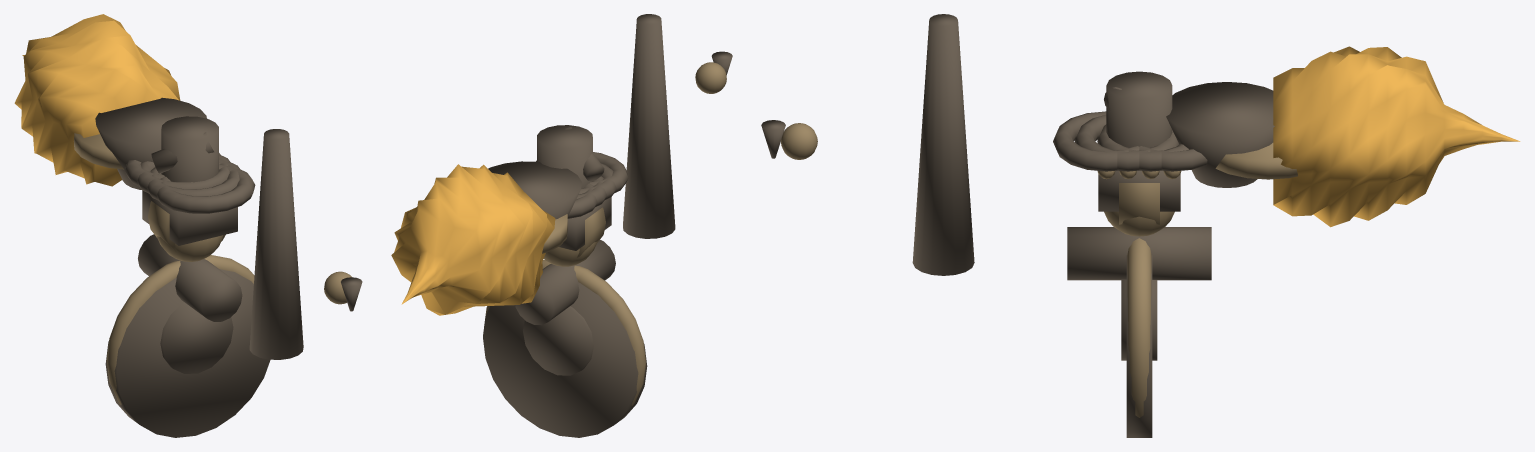
Rendered from prop_wall_sconce.glb.
3 views of the same model, side by side, from view 1: azimuth 30°, elevation 25°; view 2: azimuth 150°, elevation 25°; view 3: azimuth 270°, elevation 25° (orthographic). The views are drawn at different scales.
Visible parts, largest first — view 1: Prop_Wall_Sconce_Metal, SculptedAmberFlame; view 2: Prop_Wall_Sconce_Metal, SculptedAmberFlame; view 3: Prop_Wall_Sconce_Metal, SculptedAmberFlame.
Boxes of the visible parts, box(x1,y1,x2,y2) form: Prop_Wall_Sconce_Metal: box(74, 97, 362, 437); SculptedAmberFlame: box(14, 14, 180, 186); Prop_Wall_Sconce_Metal: box(483, 14, 732, 437); SculptedAmberFlame: box(391, 164, 555, 315); Prop_Wall_Sconce_Metal: box(761, 14, 1297, 437); SculptedAmberFlame: box(1273, 46, 1520, 227).
Size of the model in its own units: 0.208 by 0.4375 by 0.737.
